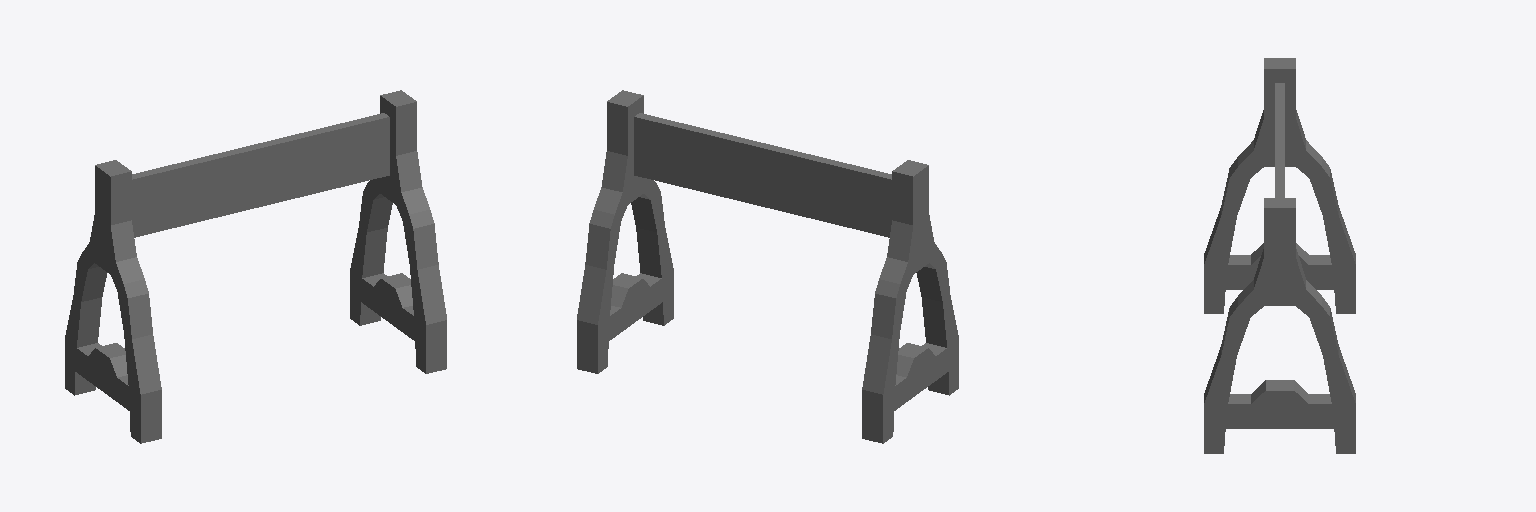
File: fence.obj
3 renders of one model, left to right at view 1: azimuth 30°, elevation 25°; view 2: azimuth 150°, elevation 25°; view 3: azimuth 270°, elevation 25°, orthographic.
Visible parts, largest first — view 1: fence; view 2: fence; view 3: fence.
Part boxes in pixels (left/top/right/bottom): fence: left=65, top=90, right=446, bottom=443; fence: left=577, top=90, right=958, bottom=443; fence: left=1204, top=58, right=1355, bottom=453.
Size of the model in its own units: 12.57 by 9.6 by 5.39.